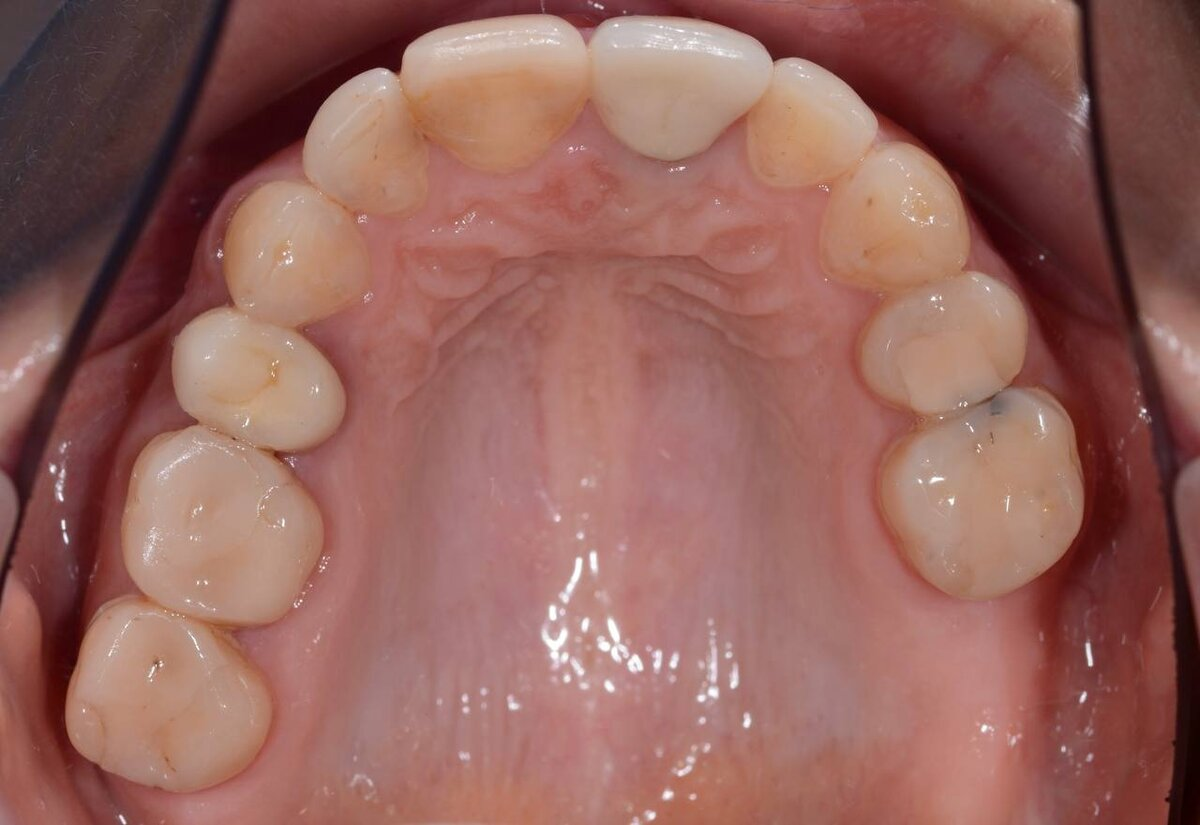UL1BC_healthy: (861, 272, 1026, 393)
UL1M_decay: (905, 604, 1075, 781)
UL2BC_healthy: (880, 416, 1084, 599)
ULCI_healthy: (590, 14, 772, 158)
ULC_healthy: (822, 142, 969, 286)
ULLI_healthy: (748, 56, 877, 186)
UR1BC_healthy: (171, 309, 345, 449)
UR1M_decay: (67, 605, 269, 793)
UR2BC_healthy: (123, 431, 322, 624)
URCI_healthy: (402, 16, 587, 172)
URC_healthy: (226, 181, 365, 325)
URLI_healthy: (304, 69, 425, 214)
